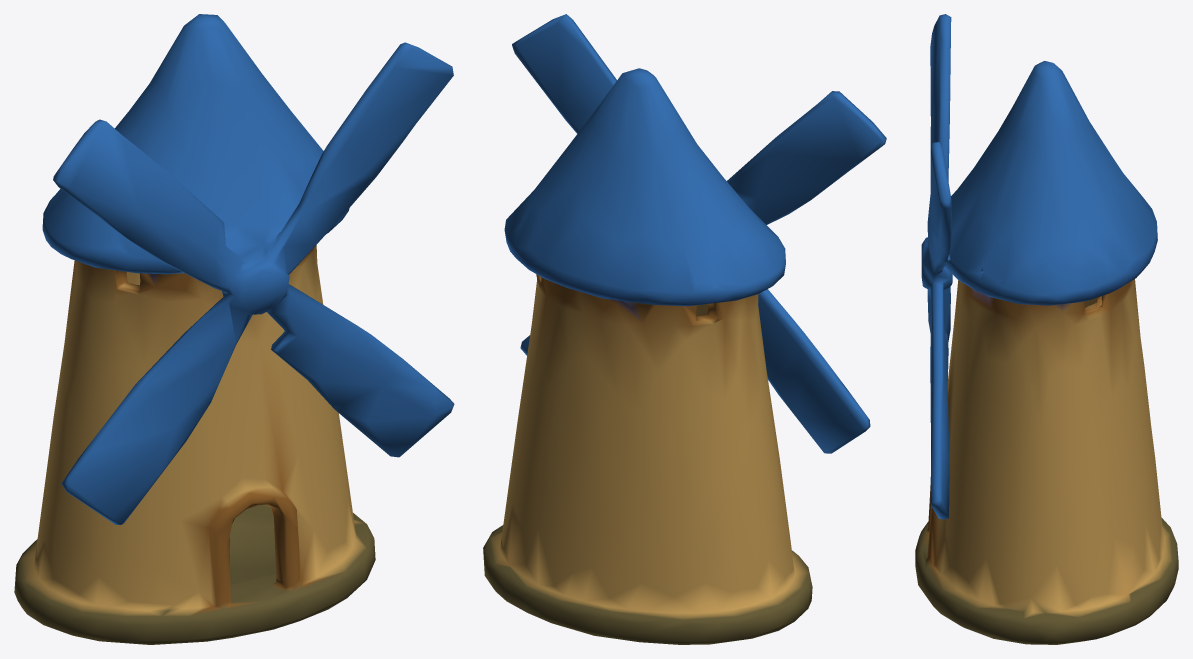
Rendered from gen3d-windmill-lod0.glb.
3 views of the same model, side by side, from view 1: azimuth 30°, elevation 25°; view 2: azimuth 150°, elevation 25°; view 3: azimuth 270°, elevation 25° (orthographic). The views are drawn at different scales.
Visible parts, largest first — view 1: part_0; view 2: part_0; view 3: part_0.
Part boxes in pixels (x1,y1,x2,y2): part_0: (14, 14, 454, 644); part_0: (483, 14, 886, 644); part_0: (915, 14, 1178, 644).
Bounding box in the file's own units: 0.7473 × 0.9943 × 0.4609.
